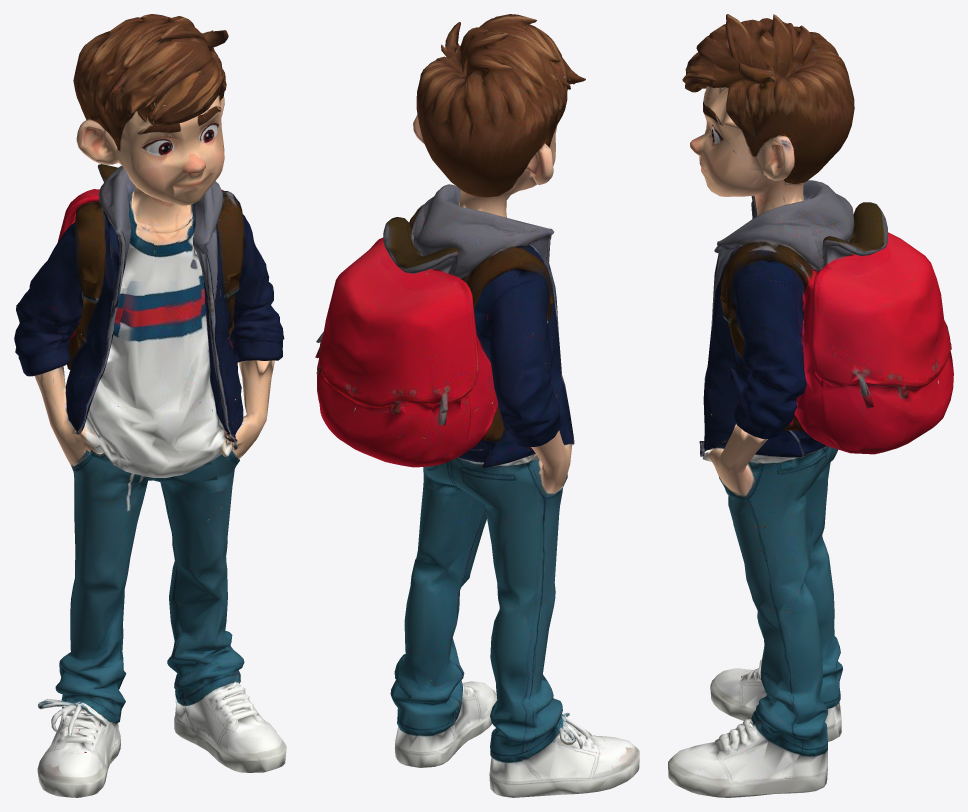
The model's file is child.glb.
The picture shows the model from 3 angles, left to right: view 1: azimuth 30°, elevation 25°; view 2: azimuth 150°, elevation 25°; view 3: azimuth 270°, elevation 25°; orthographic projection.
Size of the model in its own units: 0.6945 by 1.9 by 0.6708.
Materials: 1 (1 with a texture image).
